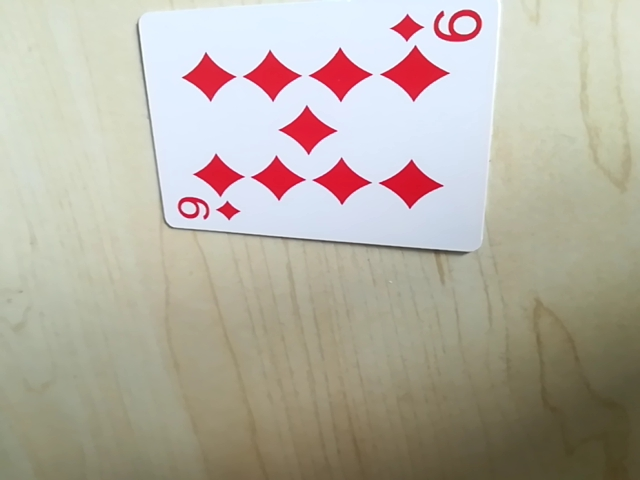fk 9: (389, 1, 489, 52), (169, 192, 243, 230)
